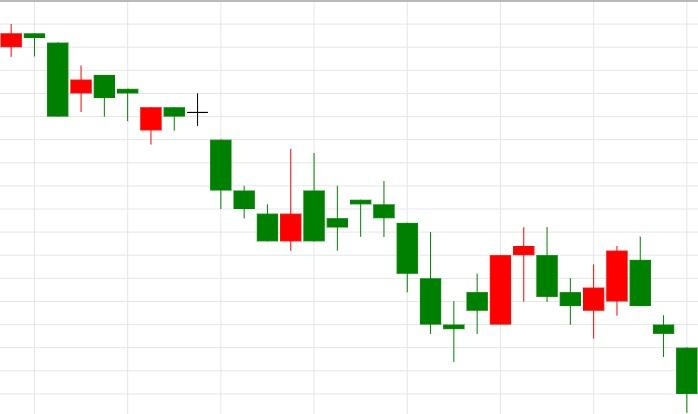bullish_engulfing_rise: (512, 227, 606, 339)
evening_star_fall: (442, 227, 558, 363)
inverse_hammer_rise: (0, 23, 302, 251)
three_black_crows_fall: (582, 237, 698, 412)
